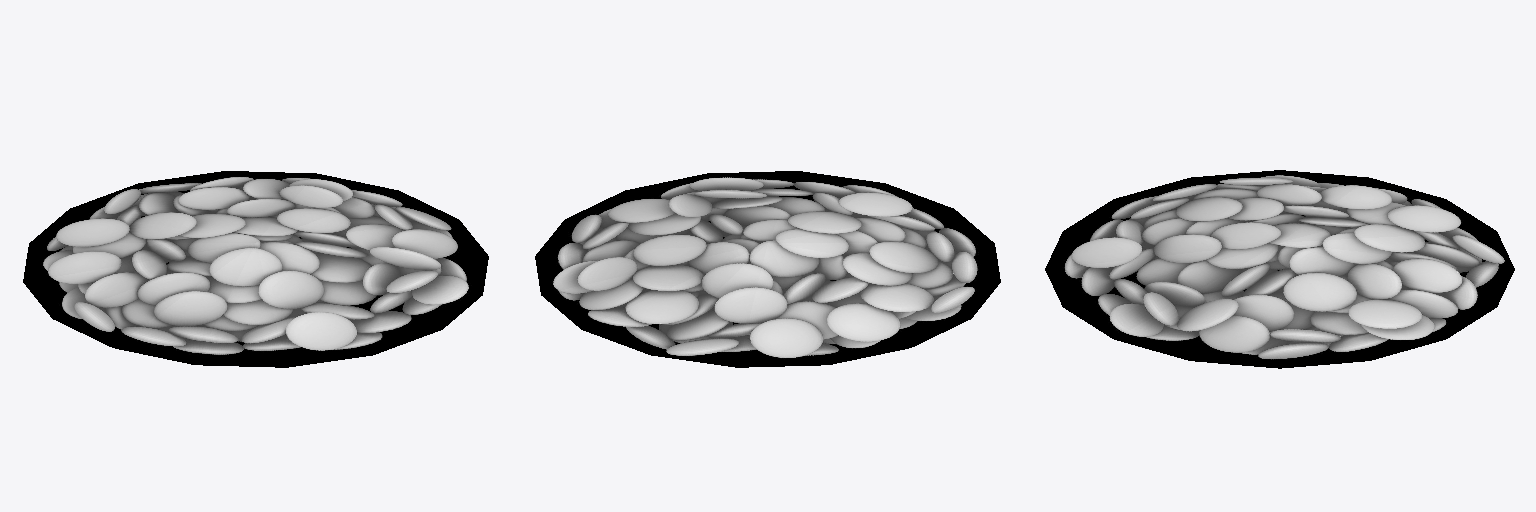
3 renders of one model, left to right at view 1: azimuth 30°, elevation 25°; view 2: azimuth 150°, elevation 25°; view 3: azimuth 270°, elevation 25°, orthographic.
Parts seen in each view (by area): view 1: go_stones; view 2: go_stones; view 3: go_stones.
Boxes of the visible parts, <box> form: go_stones: <box>23,171,488,367</box>; go_stones: <box>535,171,1000,367</box>; go_stones: <box>1045,170,1514,368</box>.
Size of the model in its own units: 0.1293 by 0.0081 by 0.1293.
Materials: 1 (1 with a texture image).